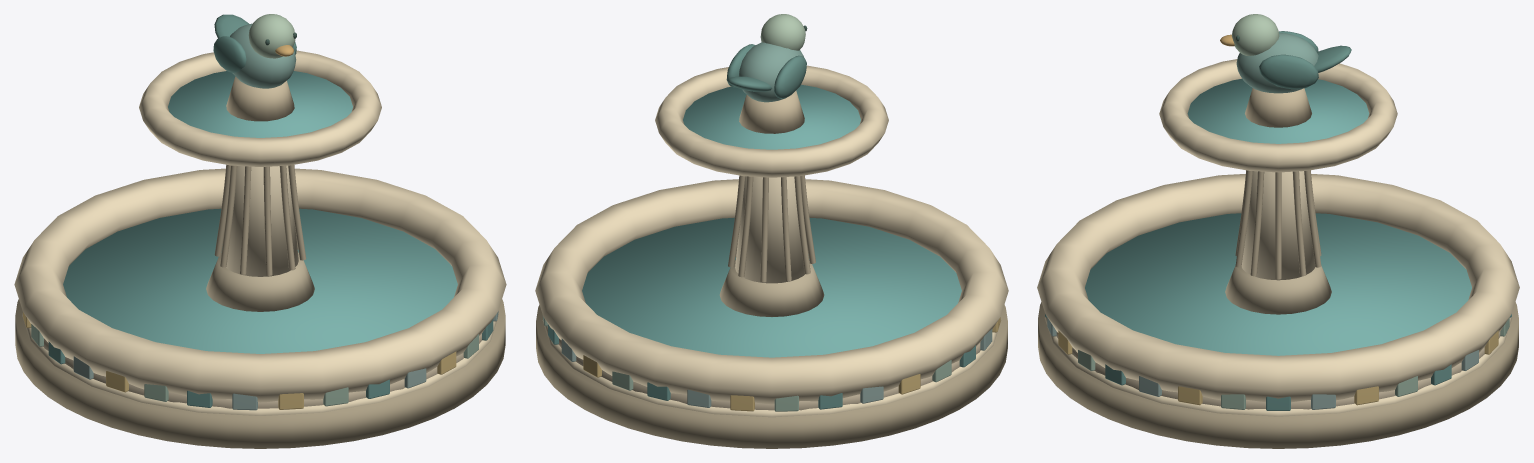
File: fountain.glb
3 renders of one model, left to right at view 1: azimuth 30°, elevation 25°; view 2: azimuth 150°, elevation 25°; view 3: azimuth 270°, elevation 25°, orthographic. The views are drawn at different scales.
Visible parts, largest first — view 1: fountain_World_Mesh, fountain_Water_Mesh, Fountain bird_Mesh; view 2: fountain_World_Mesh, fountain_Water_Mesh, Fountain bird_Mesh; view 3: fountain_World_Mesh, fountain_Water_Mesh, Fountain bird_Mesh.
Part boxes in pixels (x1,y1,x2,y2): fountain_World_Mesh: (14,50,506,448); fountain_Water_Mesh: (63,71,457,353); Fountain bird_Mesh: (213,14,296,88); fountain_World_Mesh: (535,65,1008,448); fountain_Water_Mesh: (582,84,961,357); Fountain bird_Mesh: (726,14,807,102); fountain_World_Mesh: (1037,59,1519,448); fountain_Water_Mesh: (1085,78,1471,355); Fountain bird_Mesh: (1220,14,1351,93).
Bounding box in the file's own units: 2.53 × 1.92 × 2.53.
